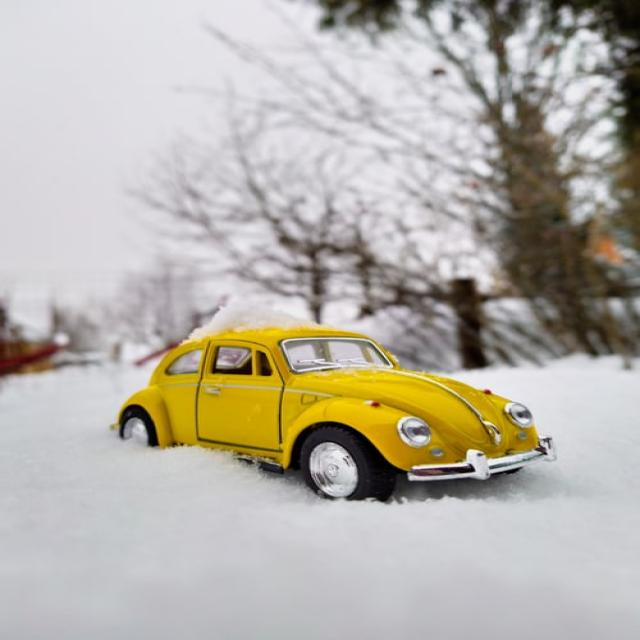Car: (114, 321, 555, 503)
